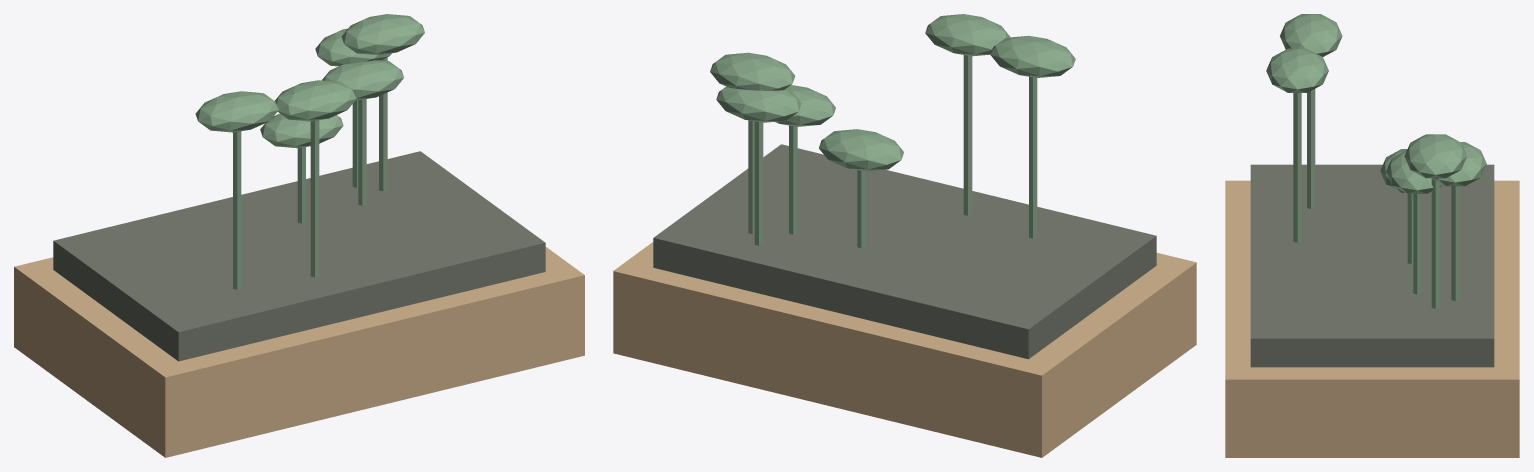
The model's file is roof_garden_02.glb.
The picture shows the model from 3 angles, left to right: view 1: azimuth 30°, elevation 25°; view 2: azimuth 150°, elevation 25°; view 3: azimuth 270°, elevation 25°; orthographic projection. The views are drawn at different scales.
Visible parts, largest first — view 1: soil, bed, leaf0, leaf4, leaf5, leaf1, leaf3, stem5, stem4, leaf2, stem1, stem0 (+2 smaller); view 2: soil, bed, leaf3, leaf4, leaf5, leaf0, leaf2, stem5, stem4, leaf1, stem2, stem1 (+2 smaller); view 3: soil, bed, leaf0, leaf5, leaf4, stem5, stem0, leaf1, stem4, leaf2, stem2, stem1 (+1 smaller).
Boxes of the visible parts, x1=… form: soil: x1=53, y1=151, x2=545, y2=361; bed: x1=14, y1=247, x2=584, y2=457; leaf0: x1=341, y1=14, x2=424, y2=55; leaf4: x1=195, y1=91, x2=278, y2=132; leaf5: x1=275, y1=80, x2=356, y2=121; leaf1: x1=322, y1=60, x2=403, y2=100; leaf3: x1=260, y1=113, x2=343, y2=148; stem5: x1=310, y1=120, x2=319, y2=277; stem4: x1=233, y1=131, x2=241, y2=289; leaf2: x1=315, y1=28, x2=391, y2=66; stem1: x1=358, y1=99, x2=366, y2=205; stem0: x1=379, y1=57, x2=387, y2=191; soil: x1=653, y1=144, x2=1156, y2=359; bed: x1=613, y1=242, x2=1196, y2=457; leaf3: x1=819, y1=129, x2=903, y2=171; leaf4: x1=990, y1=35, x2=1075, y2=77; leaf5: x1=925, y1=14, x2=1010, y2=56; leaf0: x1=710, y1=52, x2=795, y2=90; leaf2: x1=716, y1=86, x2=801, y2=122; stem5: x1=963, y1=55, x2=972, y2=215; stem4: x1=1029, y1=76, x2=1037, y2=238; leaf1: x1=775, y1=85, x2=835, y2=126; stem2: x1=754, y1=121, x2=763, y2=245; stem1: x1=789, y1=125, x2=797, y2=234; soil: x1=1250, y1=164, x2=1494, y2=367; bed: x1=1225, y1=180, x2=1519, y2=457; leaf0: x1=1404, y1=134, x2=1466, y2=178; leaf5: x1=1266, y1=48, x2=1328, y2=92; leaf4: x1=1280, y1=14, x2=1342, y2=56; stem5: x1=1293, y1=93, x2=1301, y2=242; stem0: x1=1431, y1=179, x2=1439, y2=308; leaf1: x1=1386, y1=150, x2=1442, y2=193; stem4: x1=1307, y1=89, x2=1315, y2=208; leaf2: x1=1432, y1=142, x2=1486, y2=186; stem2: x1=1451, y1=186, x2=1459, y2=300; stem1: x1=1413, y1=194, x2=1421, y2=294.
Size of the model in its own units: 1.2 by 0.8205 by 0.75.
